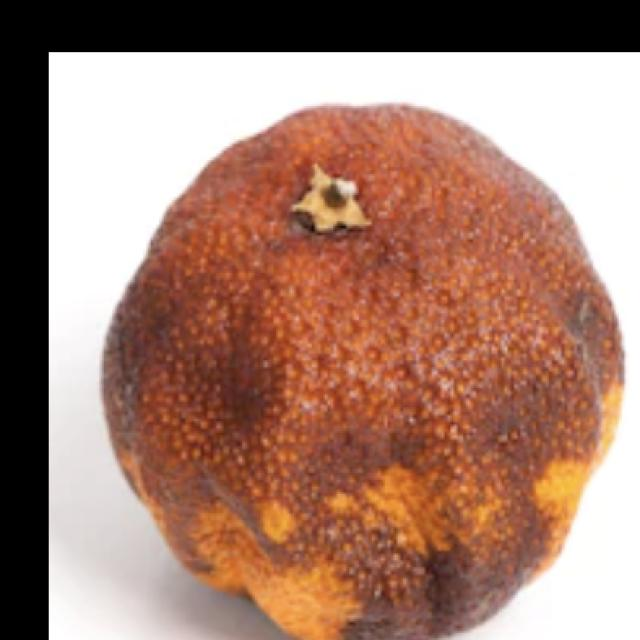sangat_busuk: (108, 107, 623, 638)
